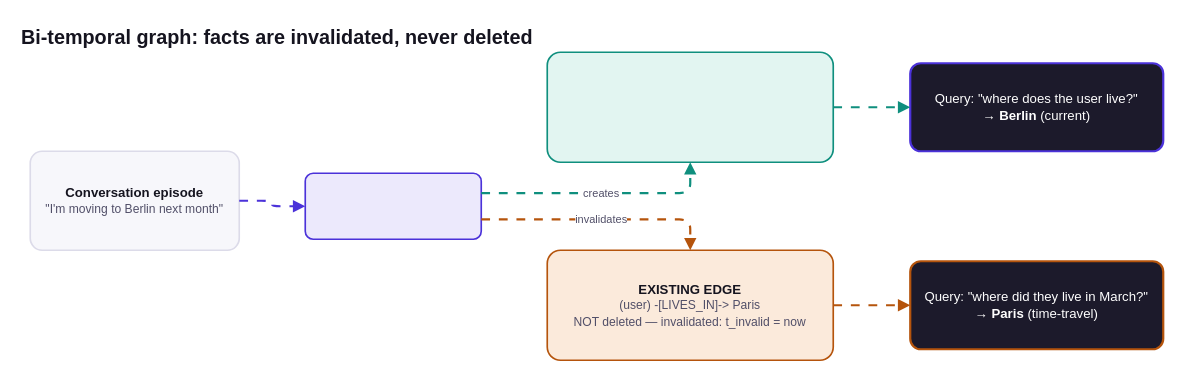
This 1183x380 diagram has some shape labels left out. The centre of each missing label's shape, as x and y in pixels:
"LLM extractor" goes at point 393,206.
"NEW EDGE (user) -[LIVES_IN]-> Berlin t_valid = next month, t_invalid = open" goes at point 690,107.
